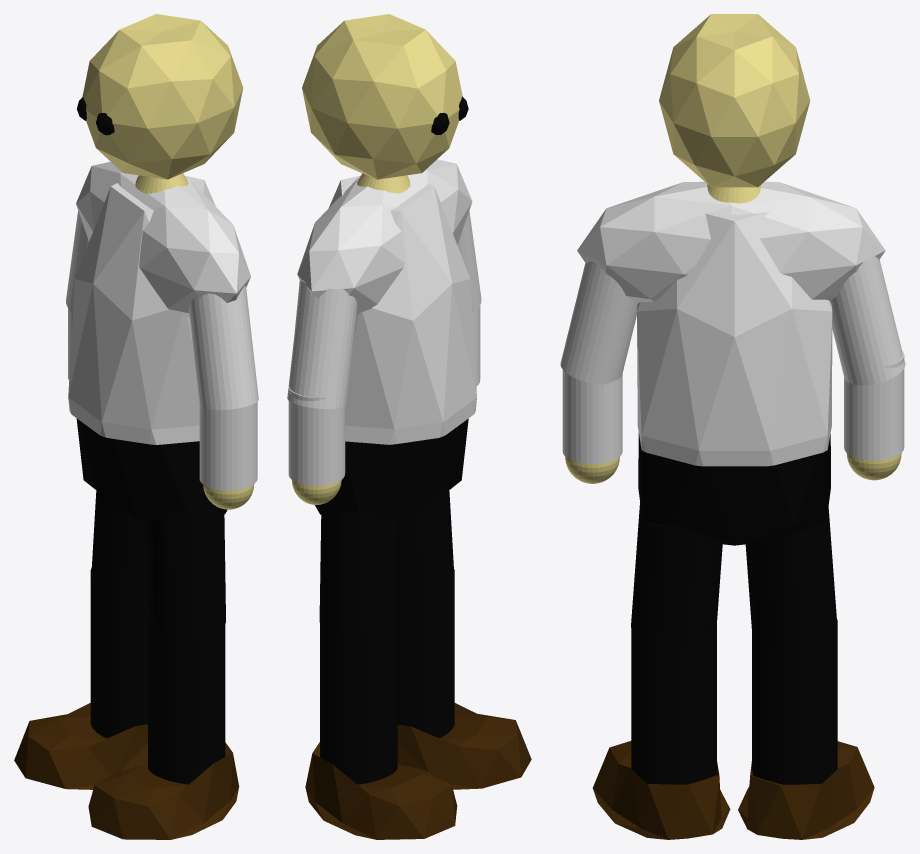
Rendered from playerER(newer).fbx.
3 views of the same model, side by side, from view 1: azimuth 30°, elevation 25°; view 2: azimuth 150°, elevation 25°; view 3: azimuth 270°, elevation 25° (orthographic). The views are drawn at different scales.
Visible parts, largest first — view 1: Icosphere, Icosphere.001, Icosphere.004, Cylinder.003, Icosphere.005, Cylinder.007, Icosphere.009, Cylinder.006, Icosphere.006, Cylinder, Cylinder.004, Cylinder.002 (+3 smaller); view 2: Icosphere, Icosphere.001, Icosphere.004, Cylinder.006, Icosphere.006, Icosphere.009, Cylinder.002, Cylinder.003, Icosphere.005, Cylinder.001, Cylinder.005, Cylinder.007 (+4 smaller); view 3: Icosphere, Icosphere.004, Icosphere.001, Icosphere.009, Cylinder.006, Cylinder.003, Cylinder.007, Cylinder.002, Icosphere.005, Icosphere.006, Cylinder.001, Cylinder (+5 smaller).
Boxes of the visible parts, x1,y1,x2,y2 form: Icosphere: [68, 175, 215, 444]; Icosphere.001: [82, 14, 243, 179]; Icosphere.004: [76, 161, 250, 317]; Cylinder.003: [148, 610, 225, 784]; Icosphere.005: [88, 742, 239, 839]; Cylinder.007: [147, 508, 225, 635]; Icosphere.009: [76, 418, 227, 520]; Cylinder.006: [90, 568, 148, 738]; Icosphere.006: [14, 703, 147, 789]; Cylinder: [189, 285, 258, 410]; Cylinder.004: [199, 402, 257, 490]; Cylinder.002: [91, 490, 148, 595]; Icosphere: [294, 175, 476, 444]; Icosphere.001: [302, 14, 462, 179]; Icosphere.004: [297, 159, 472, 314]; Cylinder.006: [320, 612, 397, 784]; Icosphere.006: [305, 742, 457, 839]; Icosphere.009: [315, 418, 468, 520]; Cylinder.002: [319, 513, 398, 630]; Cylinder.003: [397, 569, 454, 738]; Icosphere.005: [397, 703, 531, 789]; Cylinder.001: [287, 279, 357, 409]; Cylinder.005: [288, 384, 345, 485]; Cylinder.007: [397, 490, 453, 588]; Icosphere: [637, 181, 832, 466]; Icosphere.004: [577, 182, 885, 303]; Icosphere.001: [659, 14, 810, 187]; Icosphere.009: [638, 433, 830, 545]; Cylinder.006: [752, 619, 837, 784]; Cylinder.003: [631, 623, 716, 784]; Cylinder.007: [631, 501, 722, 646]; Cylinder.002: [745, 507, 836, 646]; Icosphere.005: [592, 741, 730, 839]; Icosphere.006: [738, 741, 874, 839]; Cylinder.001: [830, 255, 905, 385]; Cylinder: [560, 261, 637, 384].
Bounding box in the file's own units: 80.3 × 319 × 126.
